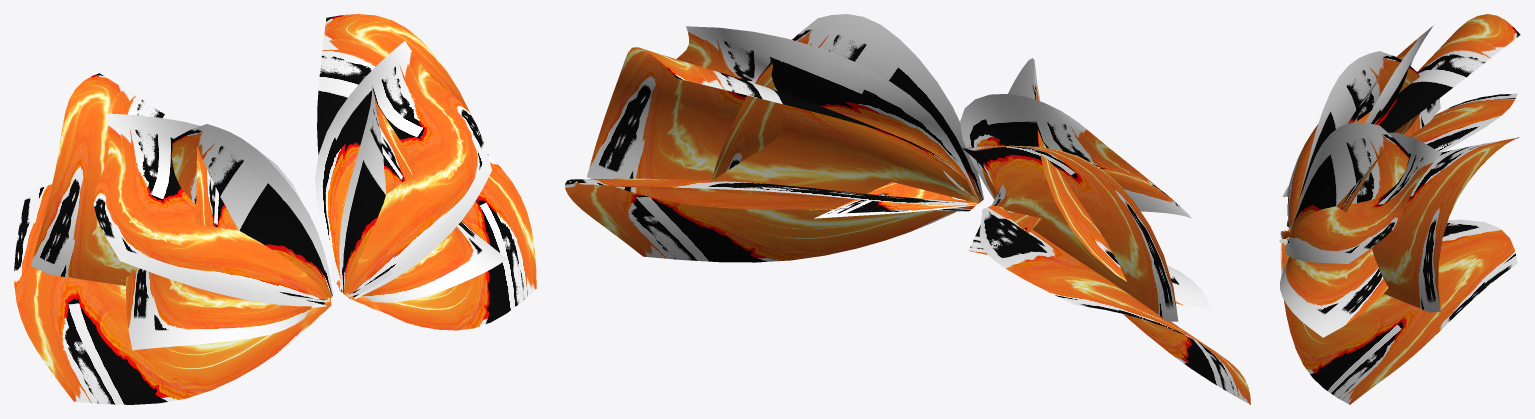
The model's file is fx_wing_mesh001.FBX.
3 renders of one model, left to right at view 1: azimuth 30°, elevation 25°; view 2: azimuth 150°, elevation 25°; view 3: azimuth 270°, elevation 25°, orthographic. The views are drawn at different scales.
Parts seen in each view (by area): view 1: Plane_L, Plane_R; view 2: Plane_R, Plane_L; view 3: Plane_R, Plane_L.
Part boxes in pixels (x1,y1,x2,y2): Plane_L: [14, 73, 333, 404]; Plane_R: [315, 14, 536, 330]; Plane_R: [565, 14, 983, 262]; Plane_L: [960, 58, 1250, 404]; Plane_R: [1279, 122, 1519, 404]; Plane_L: [1279, 14, 1520, 239].
Bounding box in the file's own units: 289 × 132 × 131.
